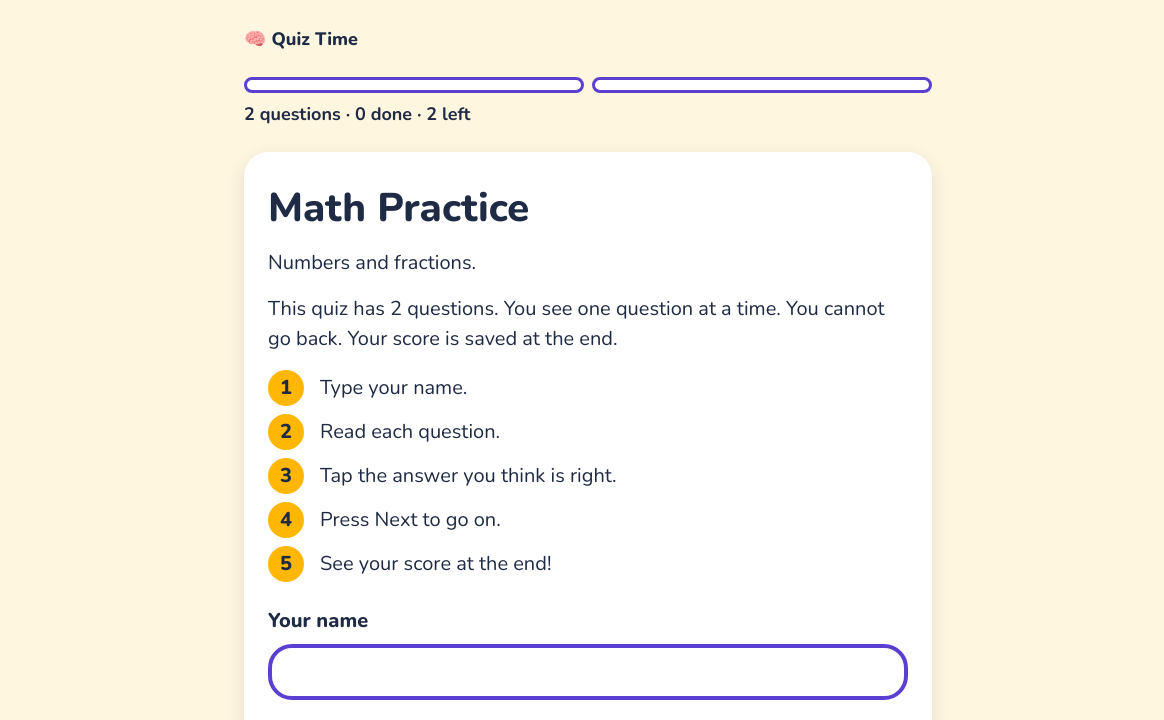
Test: QuestionPage › shows the progress and keeps Next disabled, with a hint, until a choice is selected
The width and height of the screenshot is (1164, 720).
Type "Sam" into the field labelled "Your name".
click(588, 672); type("Sam")  # box [268,644,908,700]
(page scrolled)
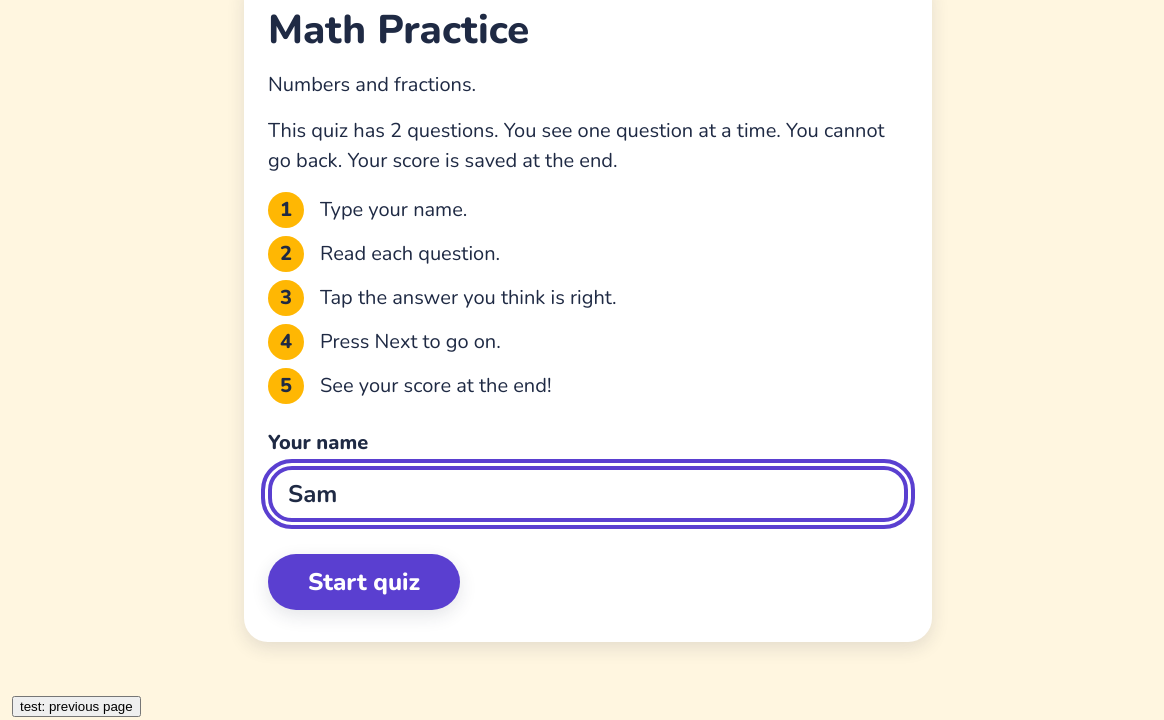
Click the button "Start quiz".
click(364, 582)  # box [268,554,460,610]
(page scrolled)
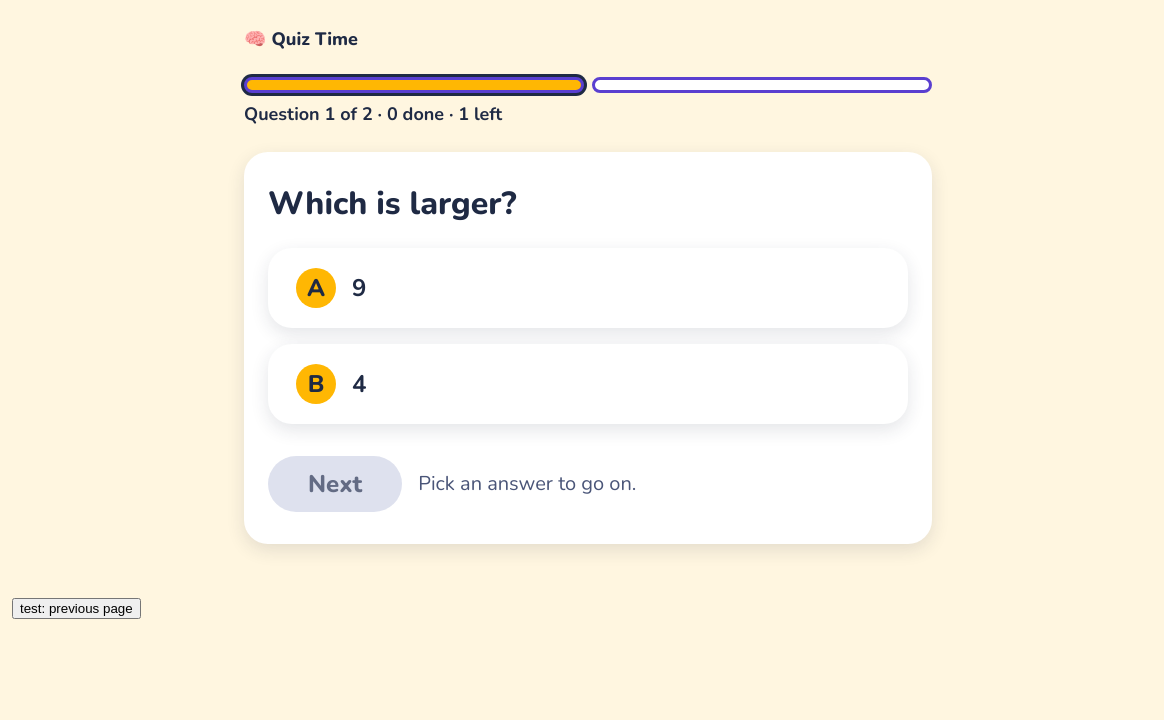
Expected: the text "Question 1 of 2 · 0 done · 1 left" is shown, [244,102,502,126]
Expected: the button "Next" is disabled, [268,456,402,512]
Expected: the text "Pick an answer to go on." is shown, [418,469,636,499]
Click the radio button labelled "A 9".
click(316, 288)  # box [268,248,908,328]
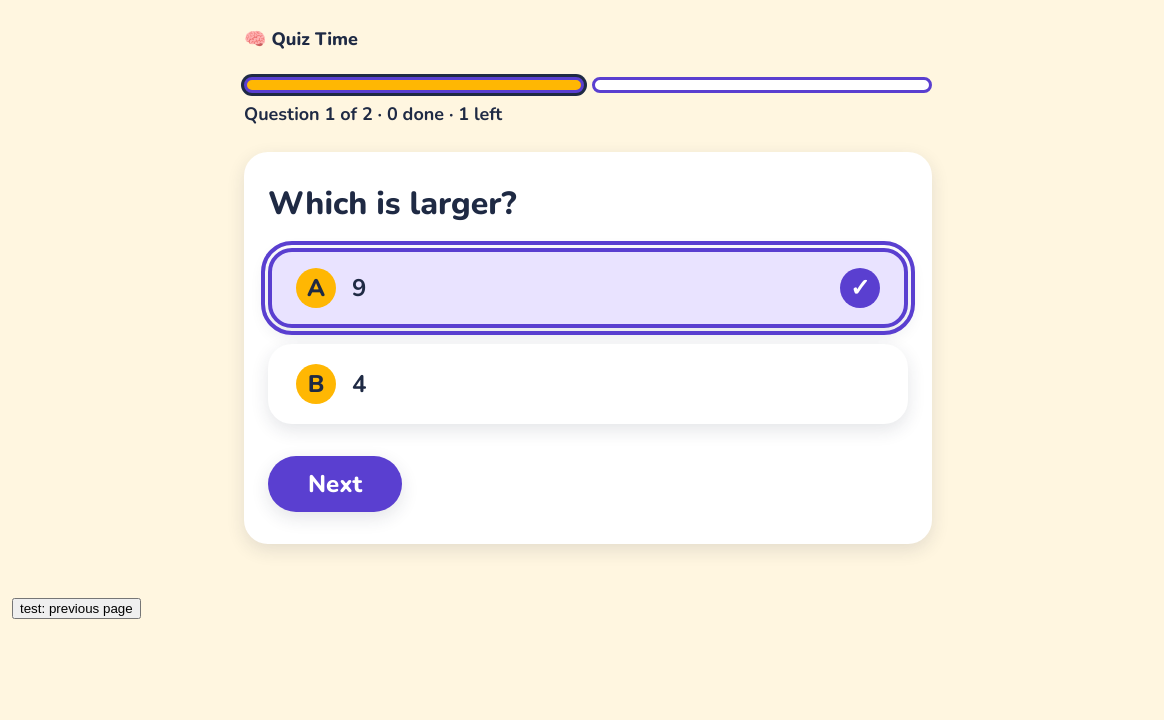
Expected: the button "Next" is enabled, [268,456,402,512]
Expected: the text "Pick an answer to go on." is gone
